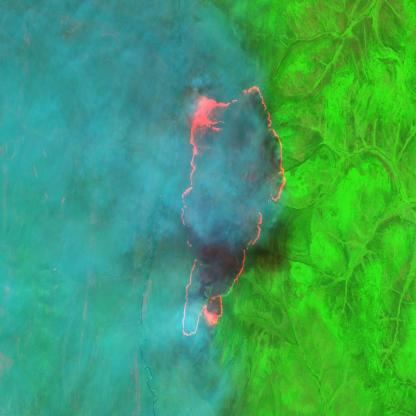fire: (176, 83, 288, 340)
